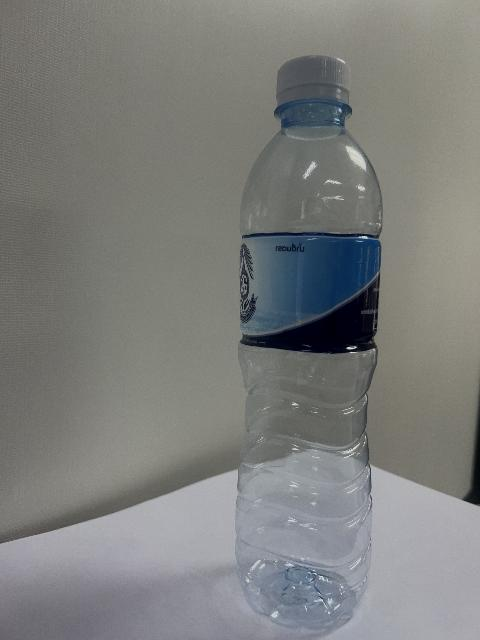bottle: (235, 57, 380, 629)
